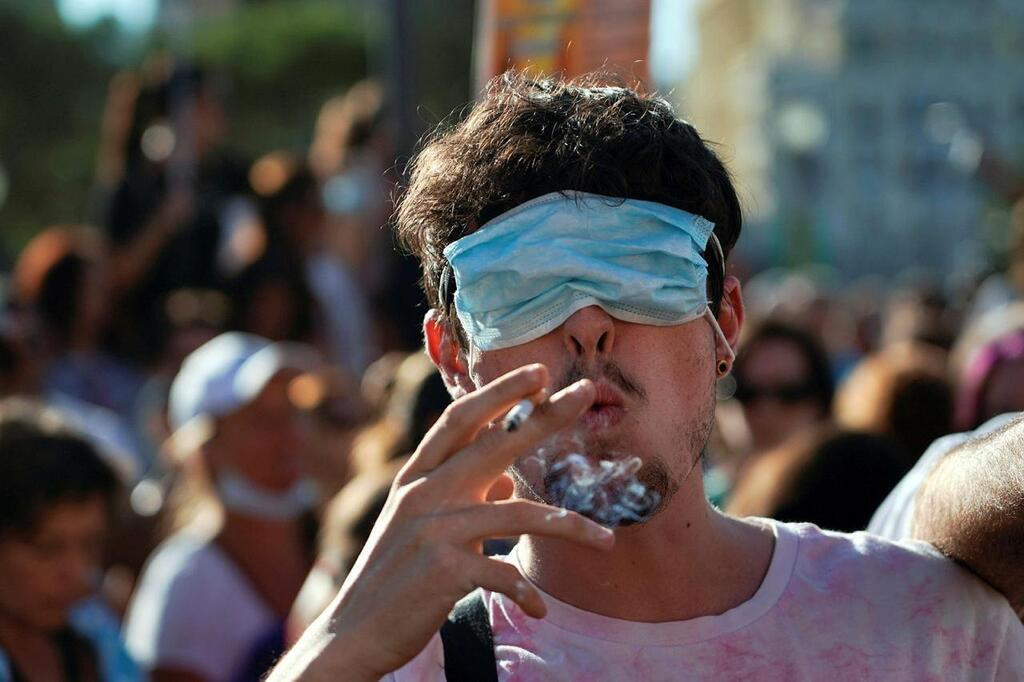with_incorrect_mask: (438, 184, 723, 508)
